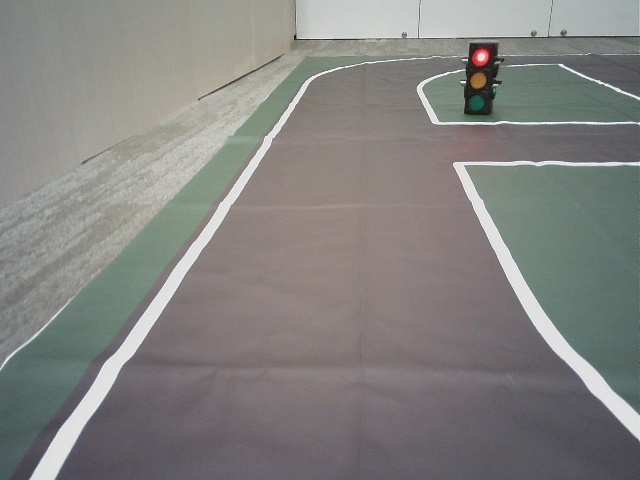red: (470, 46, 489, 110)
